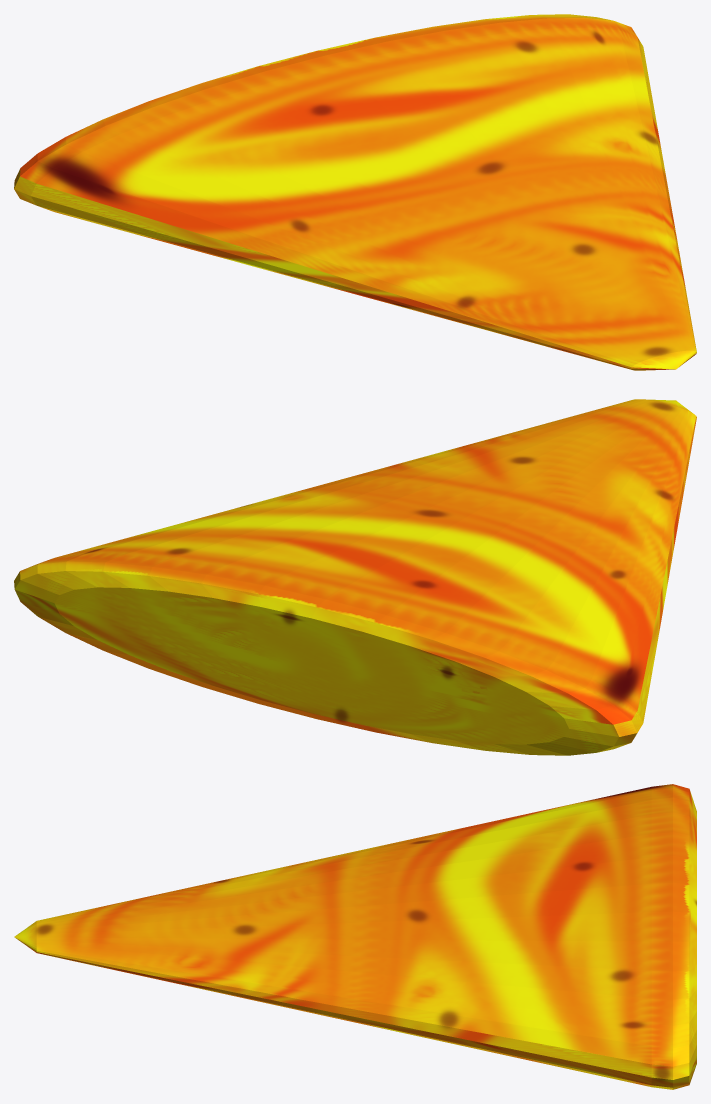
File: Cheto.fbx
The picture shows the model from 3 angles, top to bottom: view 1: azimuth 30°, elevation 25°; view 2: azimuth 150°, elevation 25°; view 3: azimuth 270°, elevation 25°; orthographic projection. The views are drawn at different scales.
Visible parts, largest first — view 1: Cheto; view 2: Cheto; view 3: Cheto.
Part boxes in pixels (x1=…): Cheto: x1=14, y1=14, x2=696, y2=370; Cheto: x1=14, y1=399, x2=696, y2=755; Cheto: x1=14, y1=784, x2=696, y2=1089.
Size of the model in its own units: 206 by 36.42 by 208.
Materials: 1 (1 with a texture image).
